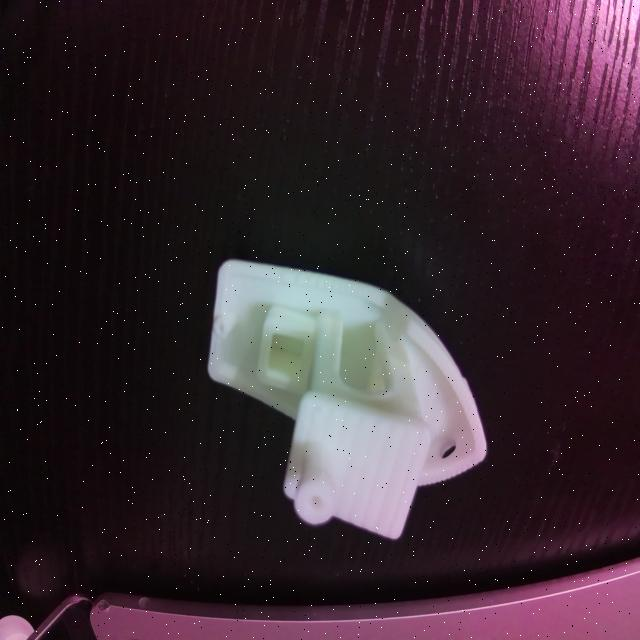ship: (208, 258, 485, 541)
